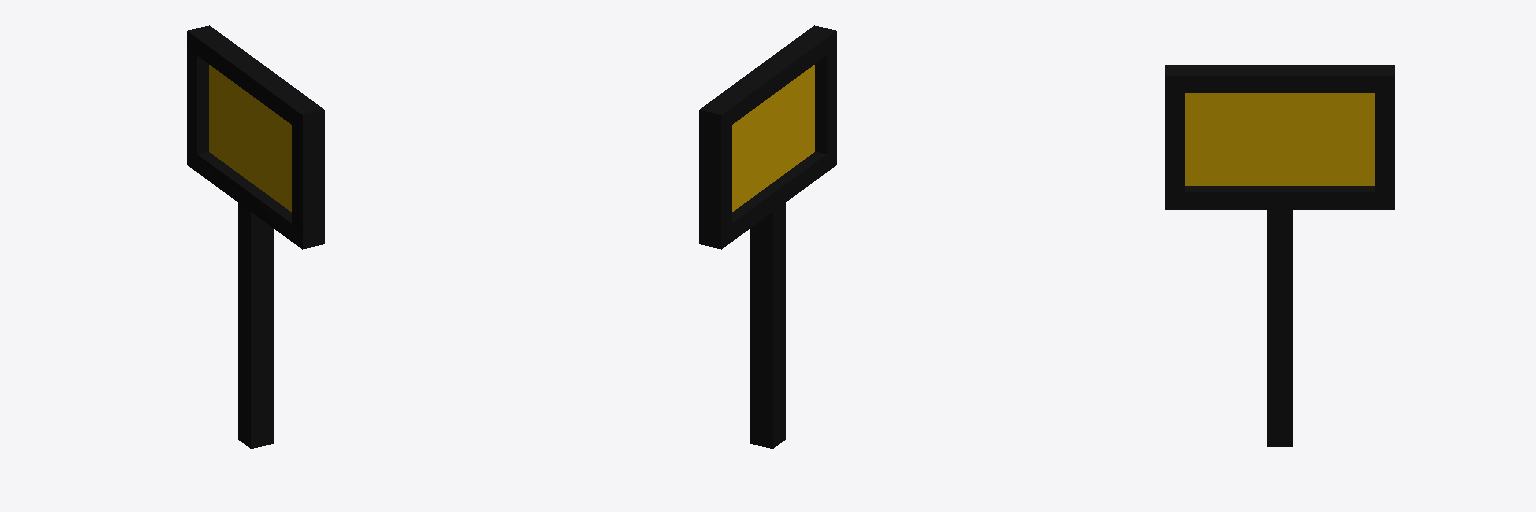
Rendered from ortsschildA7.obj.
The picture shows the model from 3 angles: view 1: azimuth 30°, elevation 25°; view 2: azimuth 150°, elevation 25°; view 3: azimuth 270°, elevation 25°; orthographic projection.
Visible parts, largest first — view 1: Cube; view 2: Cube; view 3: Cube.
Boxes of the visible parts, x1=… form: Cube: x1=187, y1=25, x2=324, y2=448; Cube: x1=699, y1=25, x2=836, y2=448; Cube: x1=1165, y1=65, x2=1394, y2=446.
Bounding box in the file's own units: 0.2018 × 3.2 × 1.8.